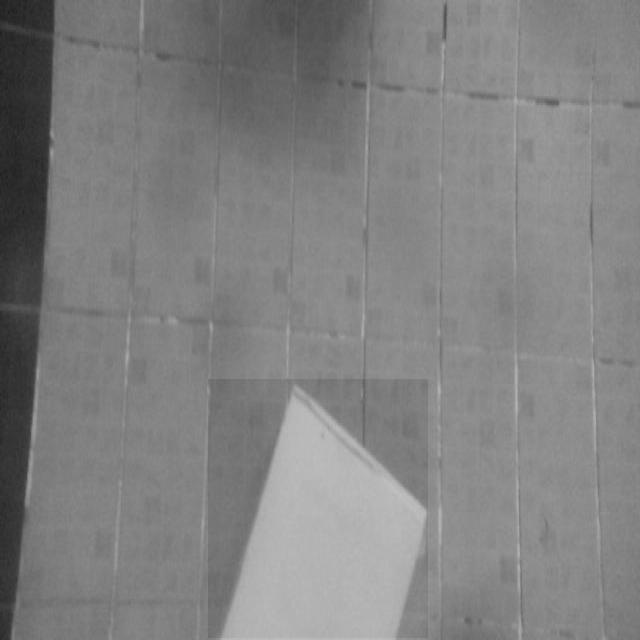Cuboid: (208, 379, 428, 638)
